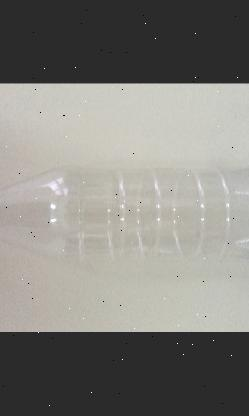Plastic Bottle: (0, 165, 249, 266)
